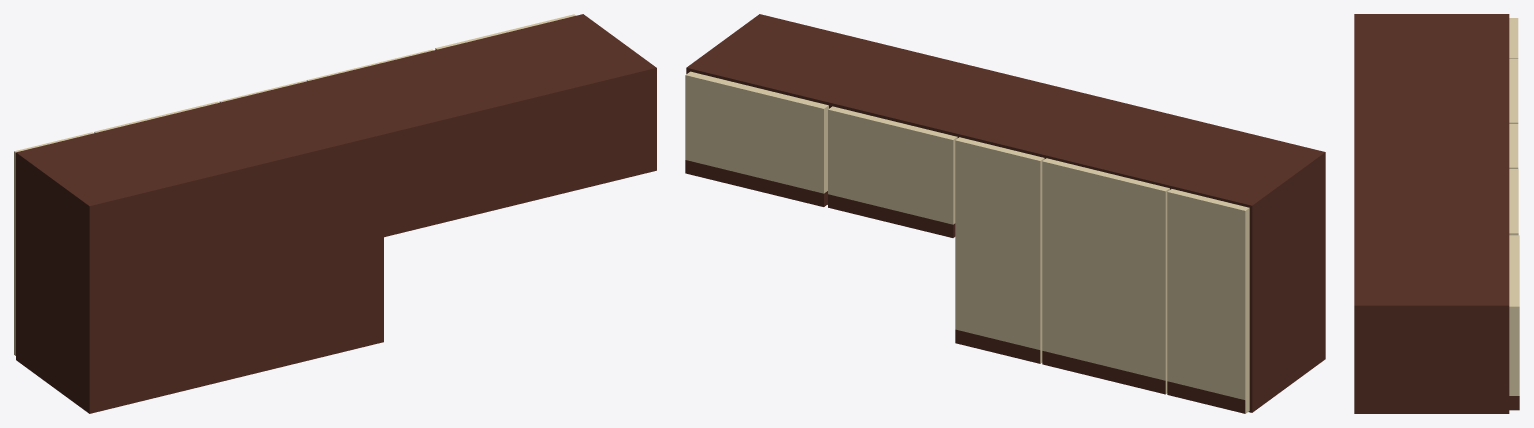
The model's file is BLS_BreakCabinets_Shanna.fbx.
3 renders of one model, left to right at view 1: azimuth 30°, elevation 25°; view 2: azimuth 150°, elevation 25°; view 3: azimuth 270°, elevation 25°, orthographic. The views are drawn at different scales.
Visible parts, largest first — view 1: Cube; view 2: Cube; view 3: Cube.
Boxes of the visible parts, x1,y1,x2,y2 form: Cube: (14,14,656,413); Cube: (685,14,1325,413); Cube: (1354,14,1519,413).
Size of the model in its own units: 2103 by 736 by 504.
